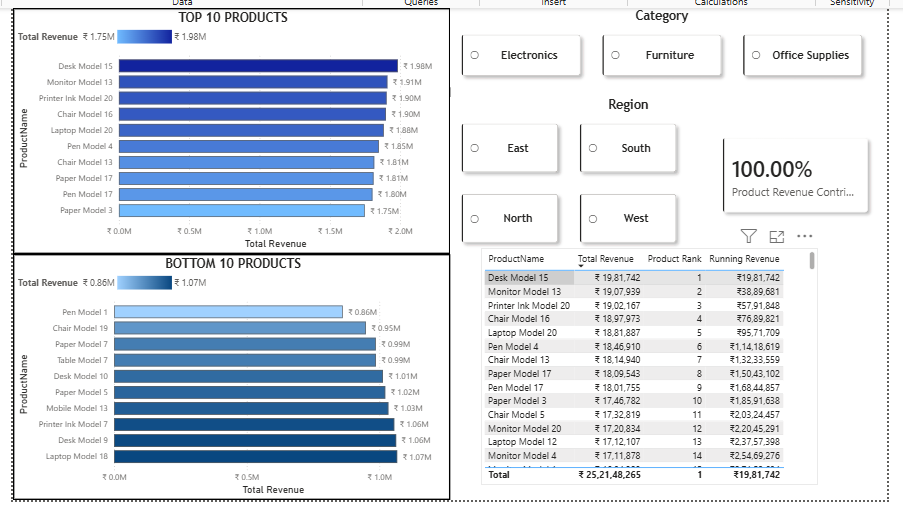

What the dashboard file says about the page in this screenshot:
{"tool":"powerbi","page":{"name":"S2 TICKET 04","canvas":[1280,720],"ordinal":5},"visuals":[{"type":"clusteredBarChart","title":"TOP 10 PRODUCTS","fields":{"Y":["Measures Table.Total Revenue"],"Category":["Sales.ProductName"]},"box":[0,0,640,360],"z":0},{"type":"clusteredBarChart","title":"BOTTOM 10 PRODUCTS","fields":{"Y":["Measures Table.Total Revenue"],"Category":["Sales.ProductName"]},"box":[0,360,640,360],"z":1},{"type":"advancedSlicerVisual","fields":{"Values":["Sales.Category"]},"box":[640,0,620,116],"z":4},{"type":"advancedSlicerVisual","fields":{"Values":["Sales.Region"]},"box":[640,130,522,230],"z":5},{"type":"cardVisual","fields":{"Data":["Measures Table.Product Revenue Contribution %"]},"box":[1010,161.2,270,167.5],"z":6},{"type":"tableEx","fields":{"Values":["Sales.ProductName","Measures Table.Total Revenue","Measures Table.Product Rank","Measures Table.Running Revenue"]},"box":[685,351.2,493.8,346.2],"z":7}]}

Visuals, with their boxes on the page's 1280x720 design canvas (x1, y1, x2, y2). These are canvas units, not pixel positions in the 903x505 screenshot, which may show the page scaled, cropped or inside an application window:
"TOP 10 PRODUCTS" clusteredBarChart: box(0, 0, 640, 360)
"BOTTOM 10 PRODUCTS" clusteredBarChart: box(0, 360, 640, 720)
advancedSlicerVisual - Sales.Category: box(640, 0, 1260, 116)
advancedSlicerVisual - Sales.Region: box(640, 130, 1162, 360)
cardVisual - Measures Table.Product Revenue Contribution %: box(1010, 161, 1280, 329)
tableEx - Sales.ProductName x Measures Table.Total Revenue: box(685, 351, 1179, 697)
